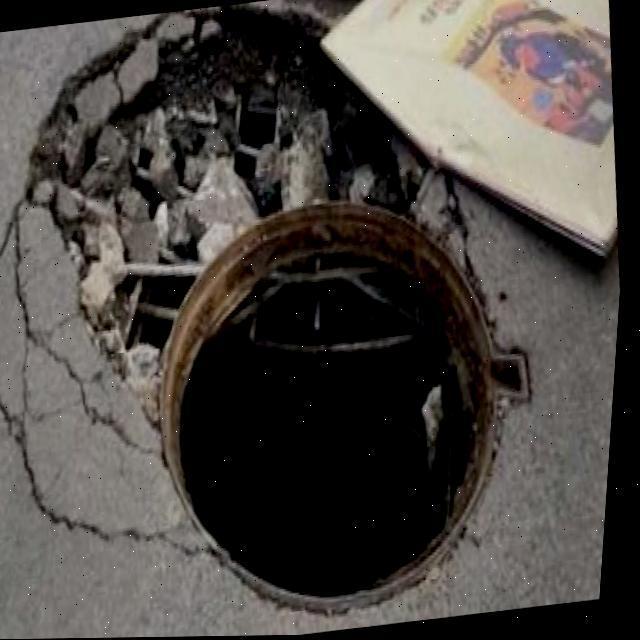manhole: (1, 0, 567, 633)
